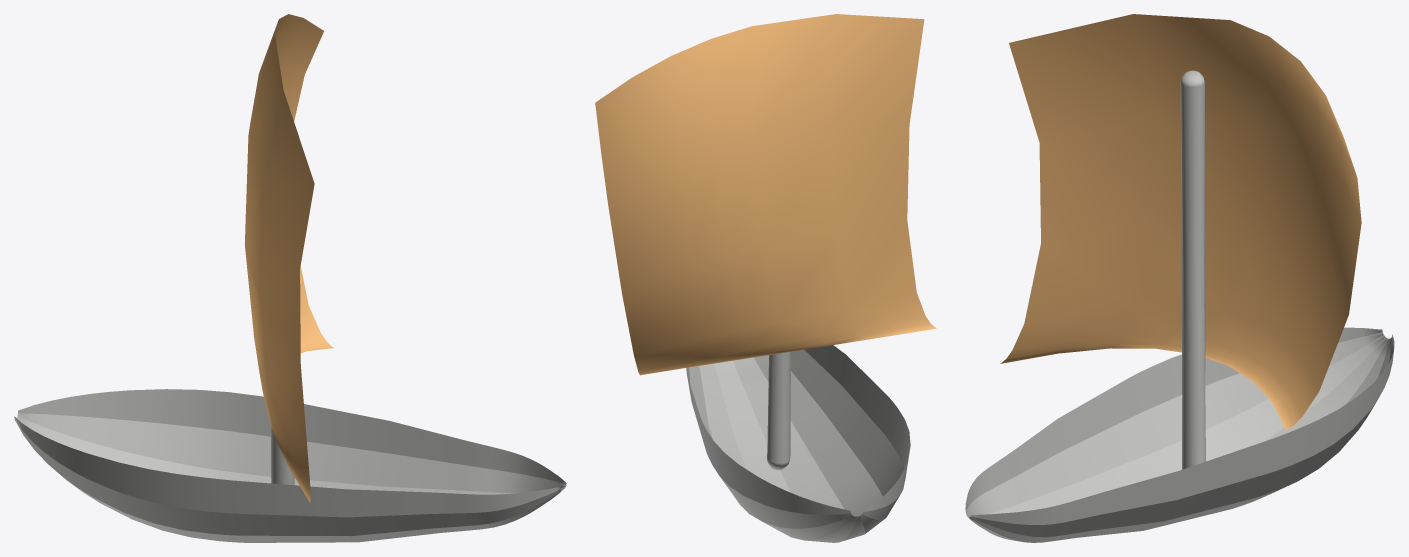
File: Boat.fbx
3 renders of one model, left to right at view 1: azimuth 30°, elevation 25°; view 2: azimuth 150°, elevation 25°; view 3: azimuth 270°, elevation 25°, orthographic. The views are drawn at different scales.
Parts seen in each view (by area): view 1: boat1; view 2: boat1; view 3: boat1.
Boxes of the visible parts, x1,y1,x2,y2 form: boat1: (14,14,566,542); boat1: (595,14,936,542); boat1: (965,14,1394,542).
Bounding box in the file's own units: 74.5 × 97.14 × 75.39.
